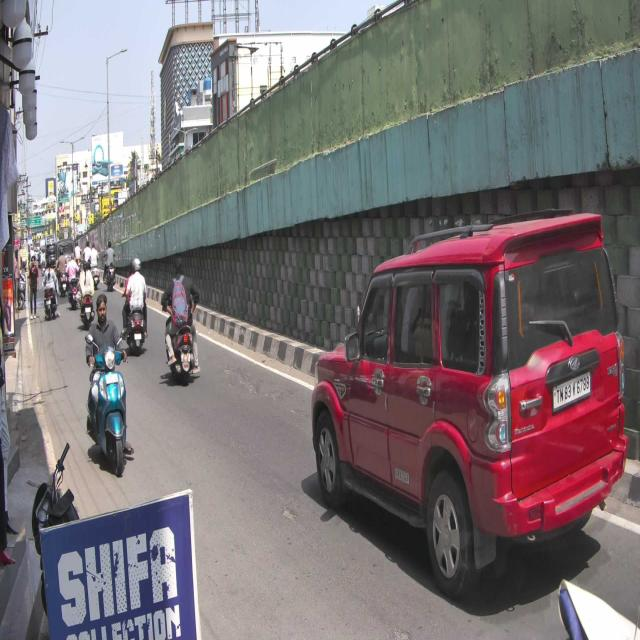single_rider: (83, 293, 134, 471)
